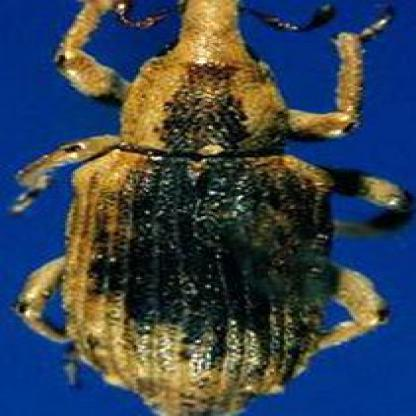rice-bug: (20, 2, 396, 416)
